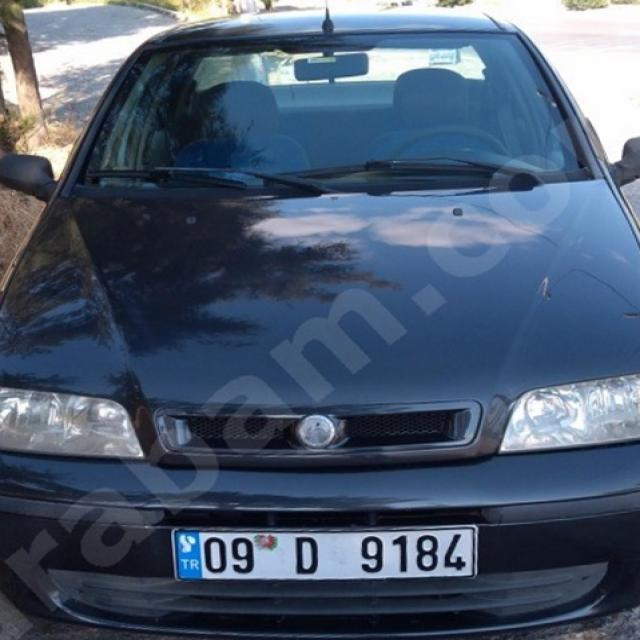license_plate: (171, 528, 480, 580)
